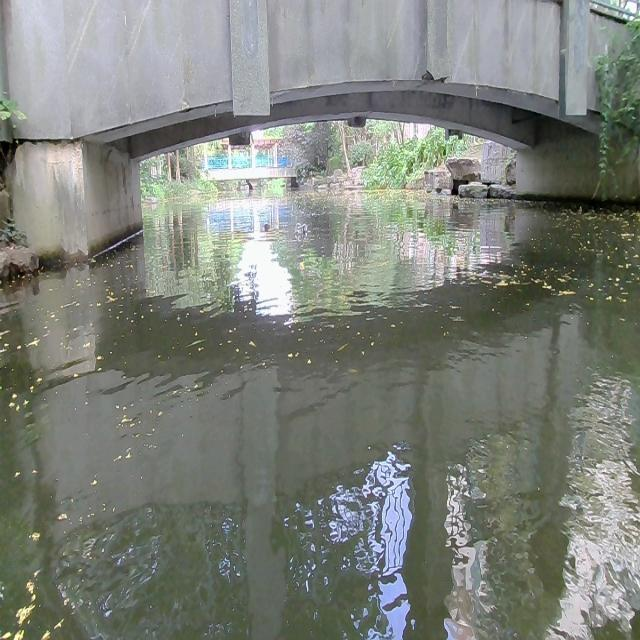bottle: (295, 222, 310, 239), (260, 222, 272, 235)
